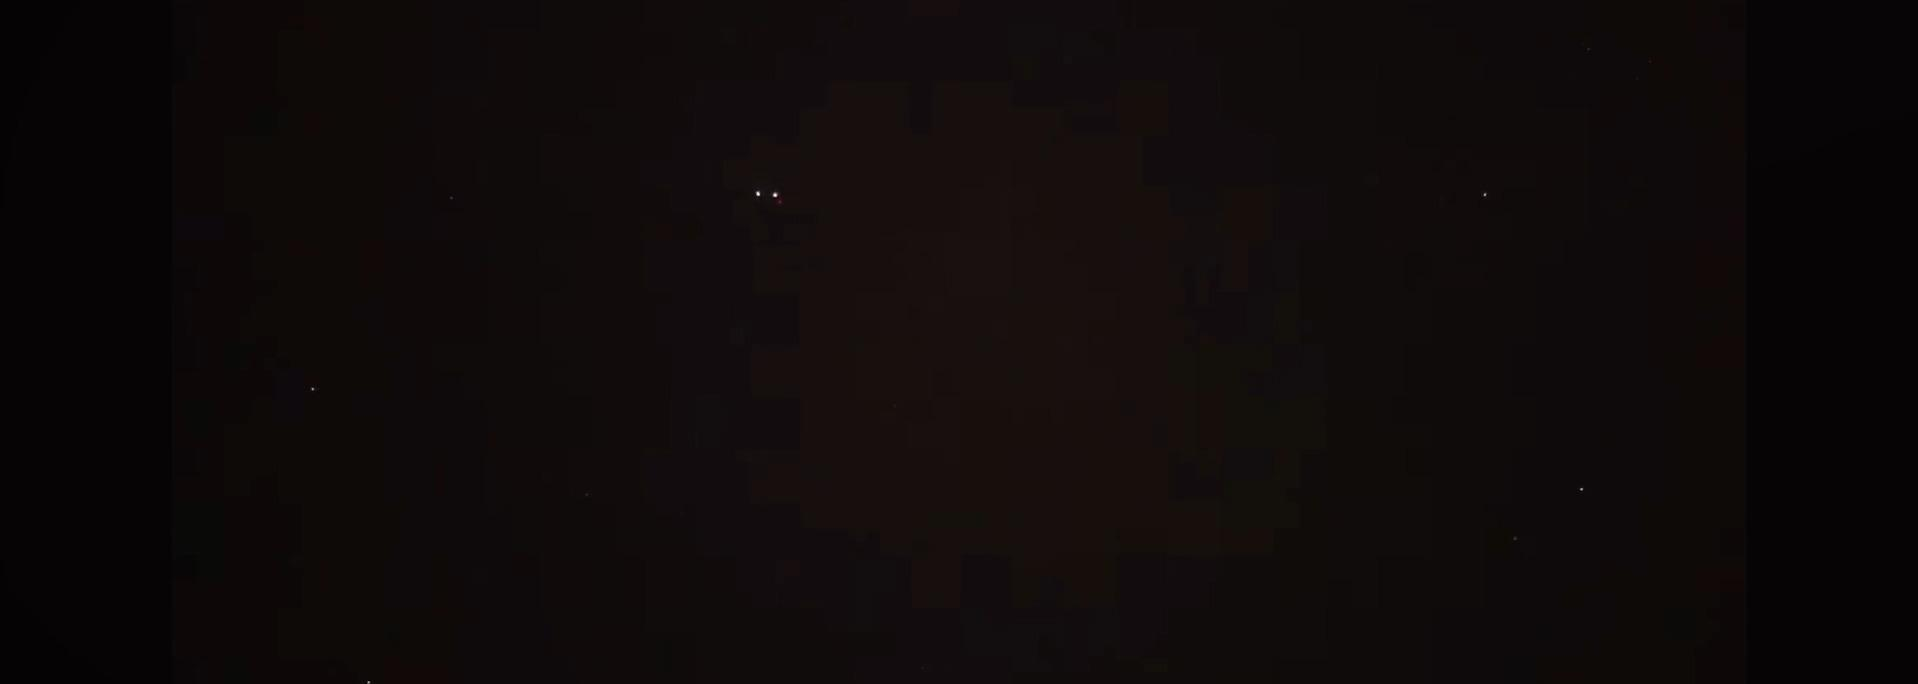Plane: (728, 176, 810, 215)
